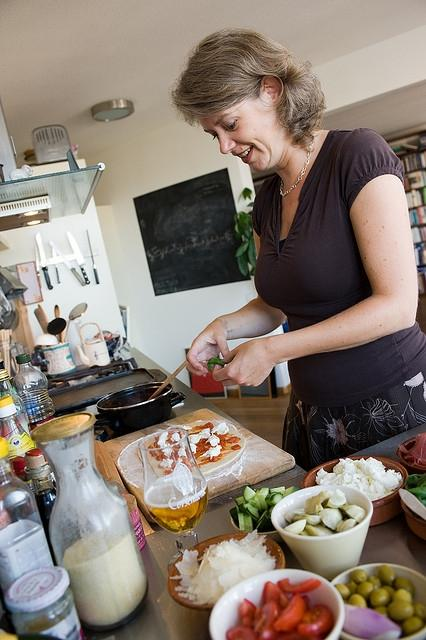tomato: (272, 594, 307, 632), (296, 604, 334, 637), (254, 600, 282, 632), (261, 582, 290, 610), (277, 578, 321, 595), (234, 598, 256, 628), (225, 625, 260, 640), (258, 626, 280, 640), (279, 627, 300, 640)
